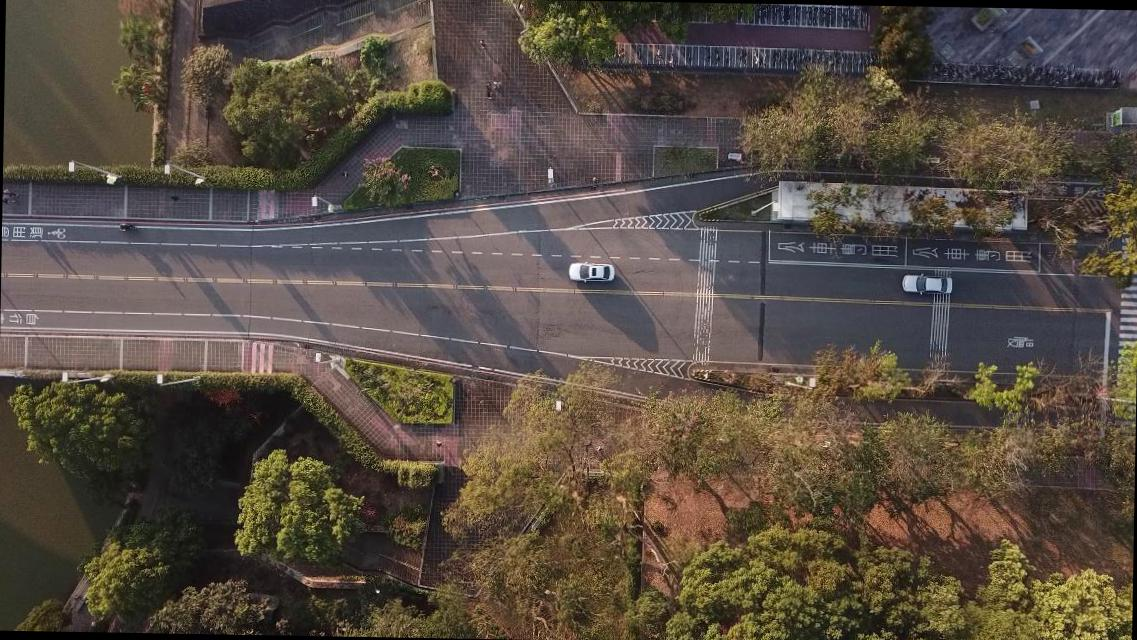vehicle: (902, 272, 952, 294), (569, 261, 615, 283)
